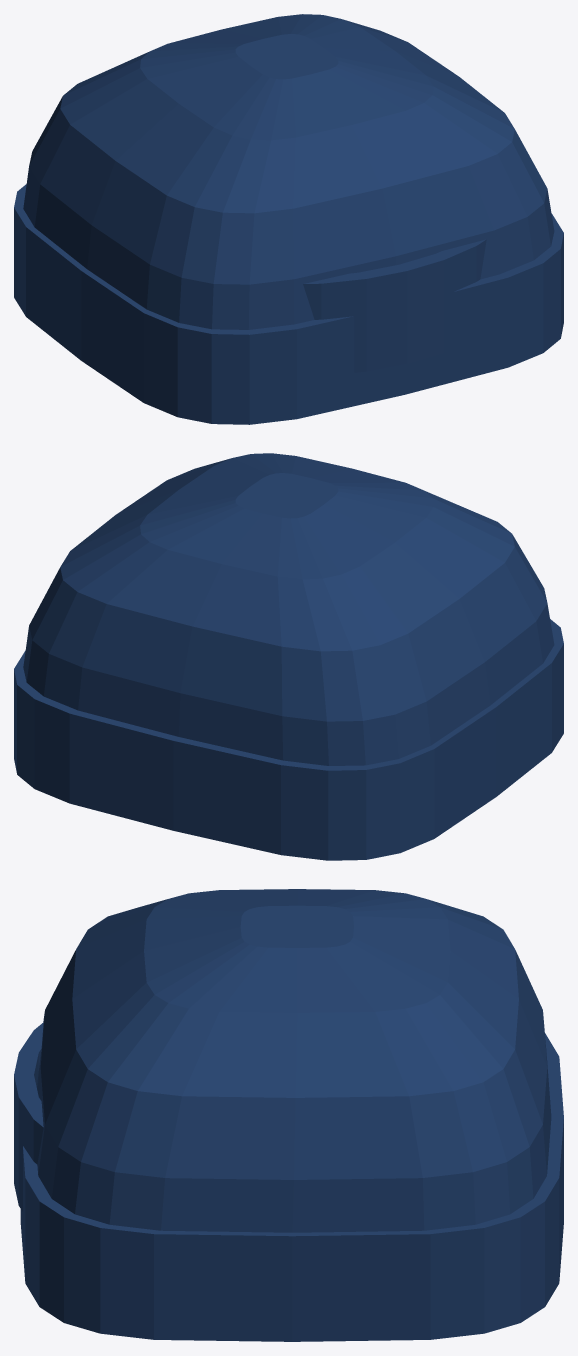
File: hair_boy_bowl_cut_01.glb
The picture shows the model from 3 angles, top to bottom: view 1: azimuth 30°, elevation 25°; view 2: azimuth 150°, elevation 25°; view 3: azimuth 270°, elevation 25°; orthographic projection. The views are drawn at different scales.
Visible parts, largest first — view 1: Bowl_Cap, Bowl_Level_Rim, Bowl_Straight_Fringe; view 2: Bowl_Cap, Bowl_Level_Rim; view 3: Bowl_Cap, Bowl_Level_Rim, Bowl_Straight_Fringe.
Boxes of the visible parts, bbox=[...] form: Bowl_Cap: bbox=[23, 14, 554, 329]; Bowl_Level_Rim: bbox=[14, 184, 563, 424]; Bowl_Straight_Fringe: bbox=[303, 239, 486, 372]; Bowl_Cap: bbox=[23, 453, 554, 765]; Bowl_Level_Rim: bbox=[14, 619, 563, 860]; Bowl_Cap: bbox=[37, 889, 551, 1232]; Bowl_Level_Rim: bbox=[20, 1033, 563, 1341]; Bowl_Straight_Fringe: bbox=[14, 1022, 43, 1211].
Bounding box in the file's own units: 0.338 × 0.196 × 0.33.
